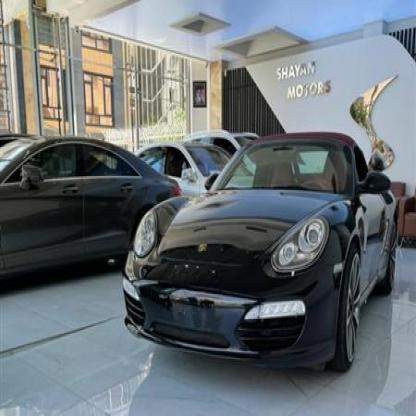Car: (116, 136, 398, 365), (0, 132, 188, 274), (140, 136, 236, 207)
